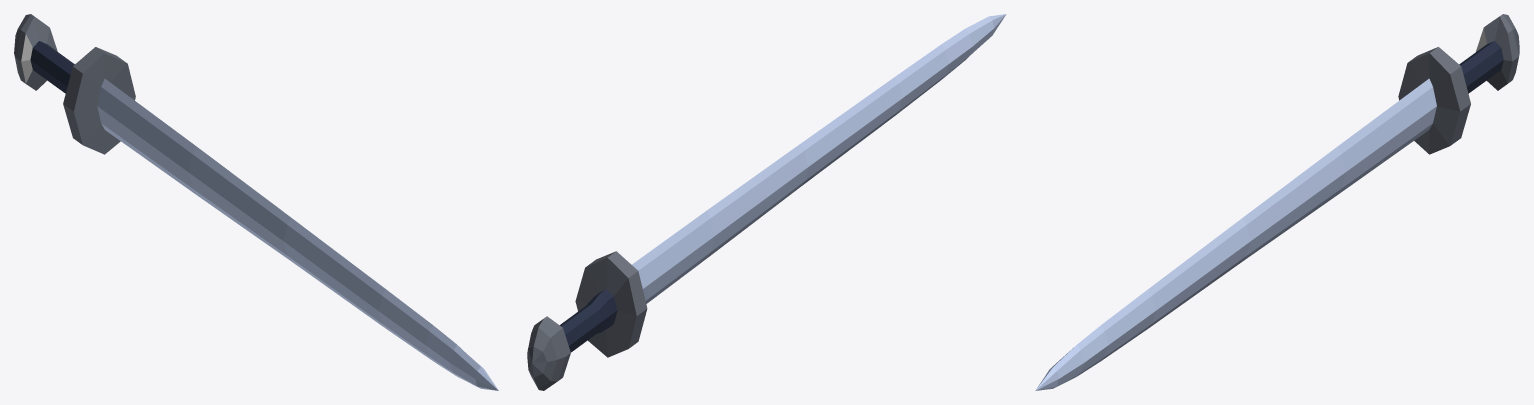
Rendered from ChangedPivot.fbx.
The picture shows the model from 3 angles, left to right: view 1: azimuth 30°, elevation 25°; view 2: azimuth 150°, elevation 25°; view 3: azimuth 330°, elevation 25°; orthographic projection.
Visible parts, largest first — view 1: pCylinder3; view 2: pCylinder3; view 3: pCylinder3.
Part boxes in pixels (bbox=[...]): pCylinder3: bbox=[14, 14, 498, 390]; pCylinder3: bbox=[527, 14, 1006, 390]; pCylinder3: bbox=[1035, 14, 1519, 390].
Bounding box in the file's own units: 1.51 × 2.36 × 20.21.
